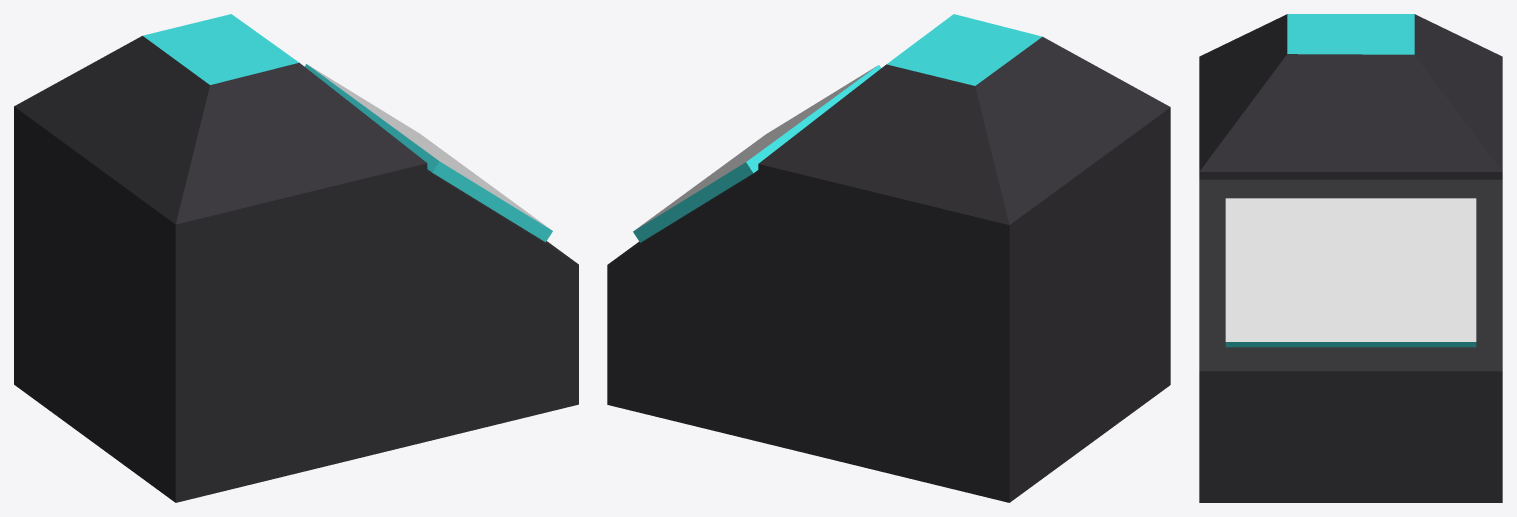
The model's file is Terminal.fbx.
3 views of the same model, side by side, from view 1: azimuth 30°, elevation 25°; view 2: azimuth 150°, elevation 25°; view 3: azimuth 270°, elevation 25° (orthographic). The views are drawn at different scales.
Parts seen in each view (by area): view 1: Cube; view 2: Cube; view 3: Cube.
Boxes of the visible parts, bbox=[...] form: Cube: bbox=[14, 14, 578, 502]; Cube: bbox=[607, 14, 1170, 502]; Cube: bbox=[1199, 14, 1502, 502].
Bounding box in the file's own units: 288 × 249 × 200.
